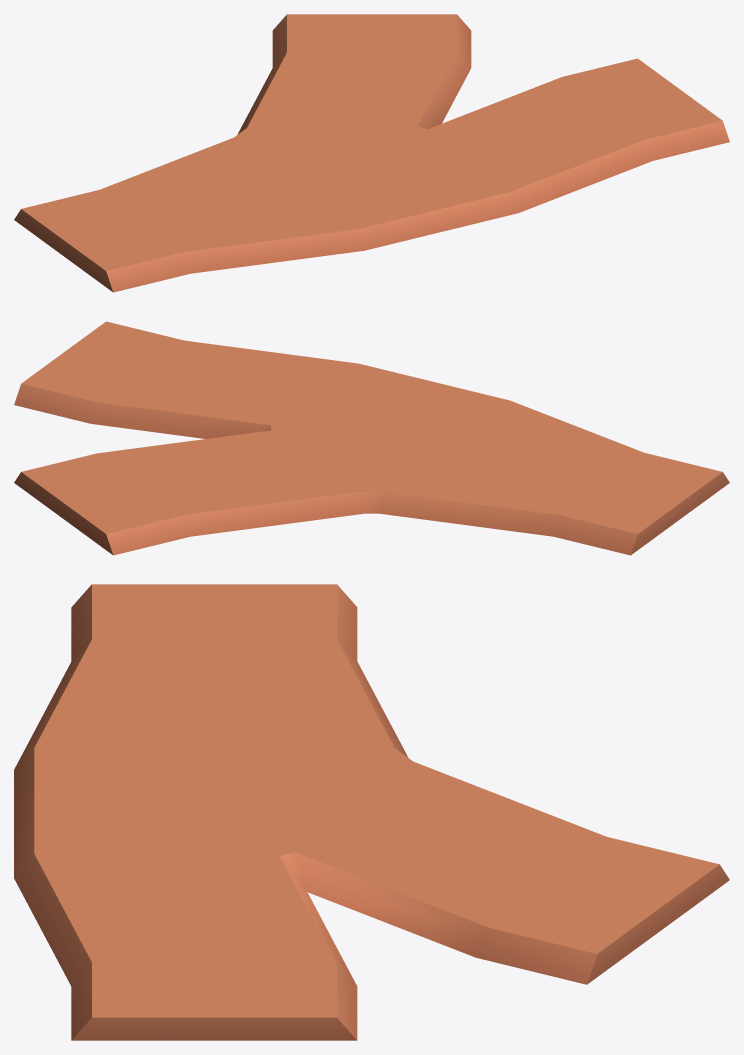
Rendered from kenney-hexagon-path-intersectionb.glb.
3 renders of one model, top to bottom at view 1: azimuth 30°, elevation 25°; view 2: azimuth 150°, elevation 25°; view 3: azimuth 270°, elevation 25°, orthographic. The views are drawn at different scales.
Visible parts, largest first — view 1: path_intersectionB; view 2: path_intersectionB; view 3: path_intersectionB.
Boxes of the visible parts, x1=… form: path_intersectionB: x1=14, y1=14, x2=729, y2=292; path_intersectionB: x1=14, y1=321, x2=729, y2=555; path_intersectionB: x1=14, y1=584, x2=729, y2=1040.
Bounding box in the file's own units: 1 × 0.025 × 0.6982.
Materials: 1 (1 with a texture image).
